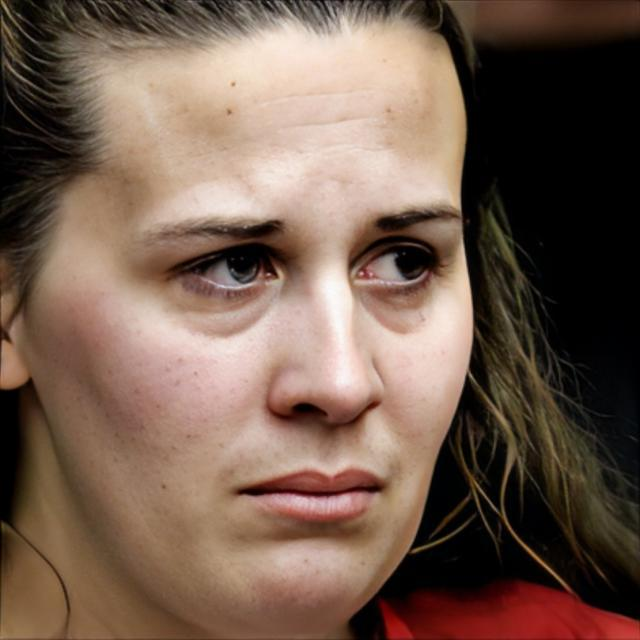sad: (59, 58, 480, 615)
